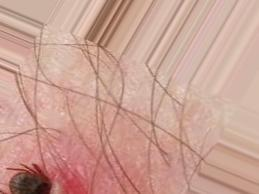Tick: (6, 162, 81, 193)
